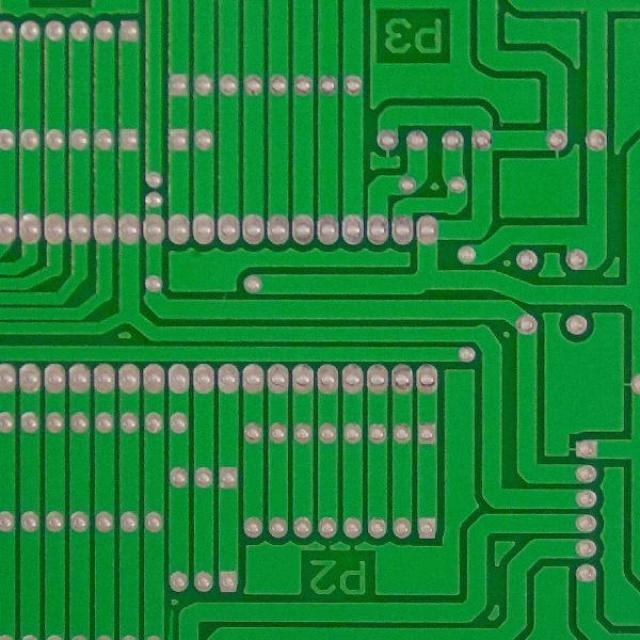spurious_copper: (166, 609, 180, 639)
